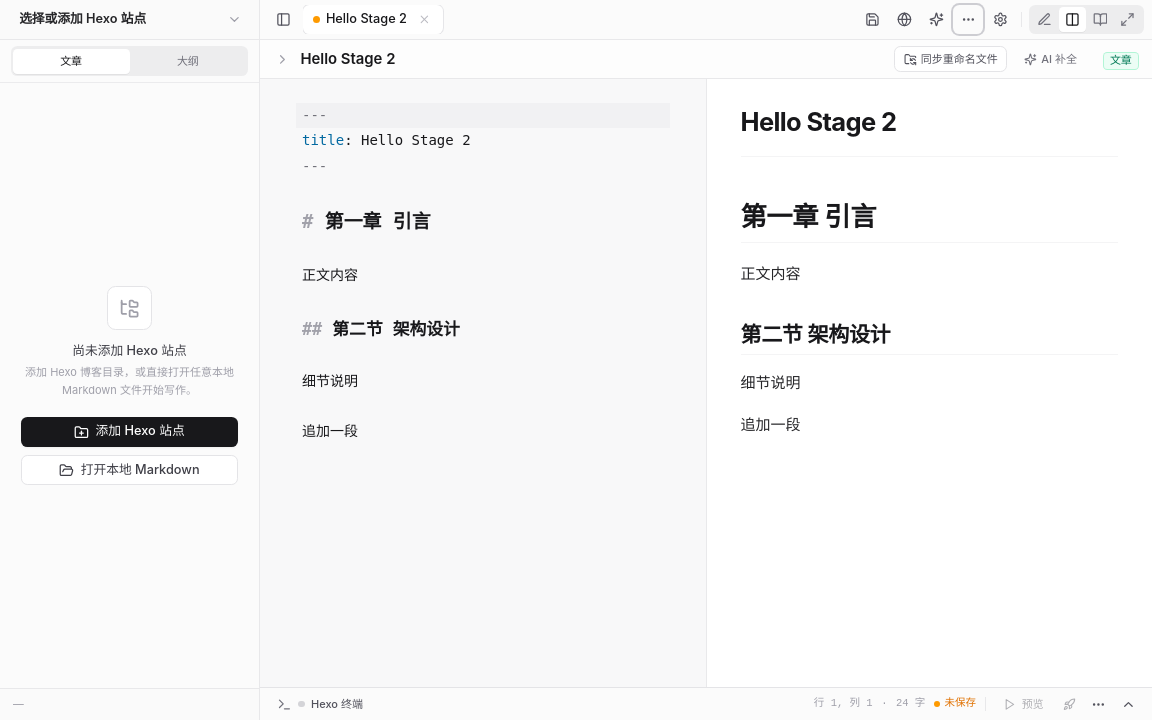
Stage 2 workbench integration › hides formatting toolbar and line numbers by default, and toggles both cleanly without destroying editor undo history
This screenshot has width=1152, height=720.
Press Enter in the button named "更多工具", box top-left (953, 5), bottom-right (983, 34)
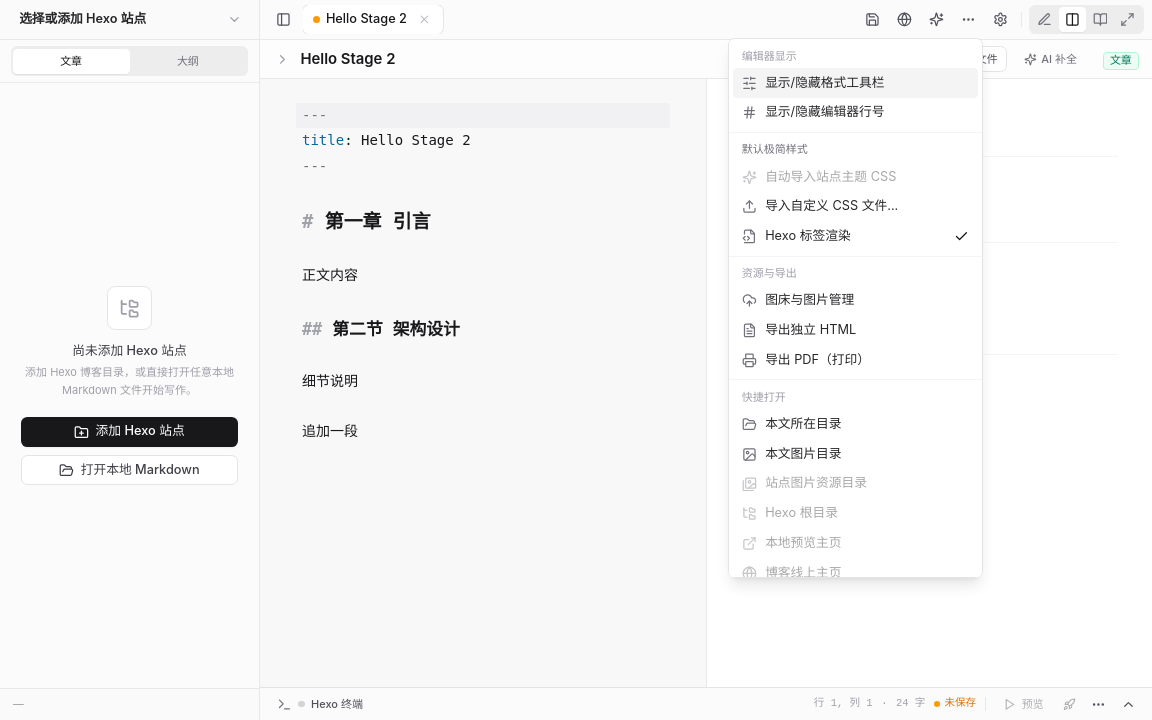
Expected: the menu item "显示/隐藏格式工具栏" is shown
Click the menu item "显示/隐藏格式工具栏". click: (856, 83)
box: top-left (733, 68), bottom-right (978, 98)
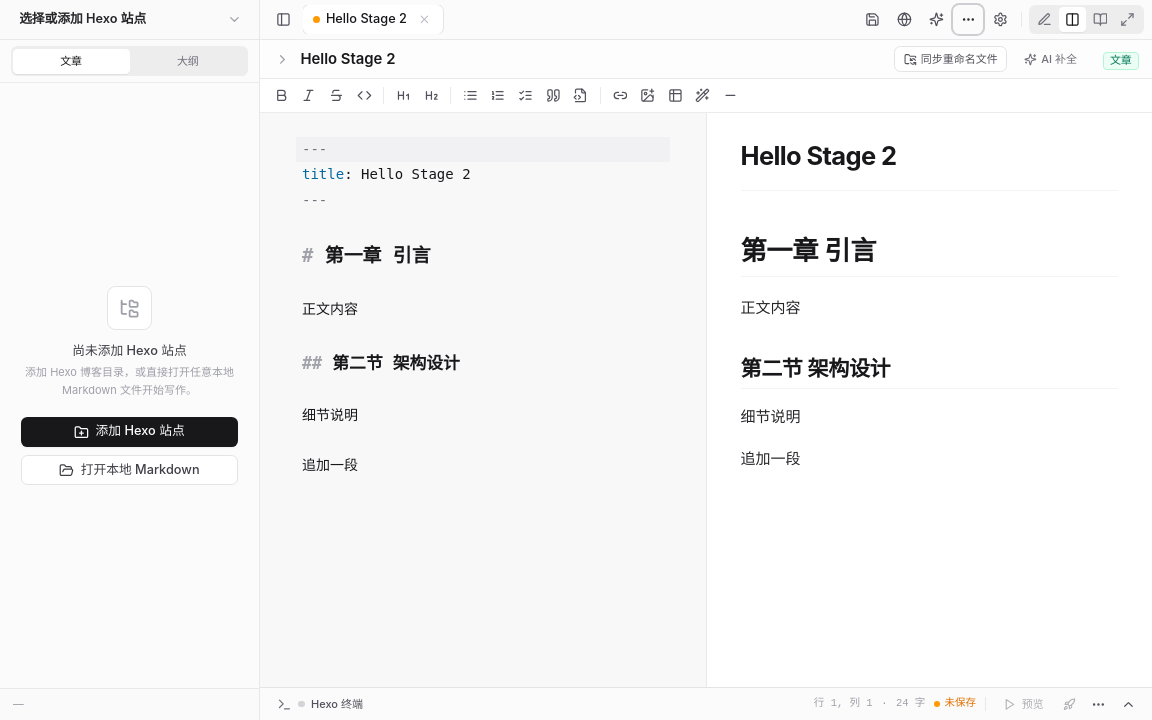
Press Enter in the button named "更多工具", box top-left (953, 5), bottom-right (983, 34)
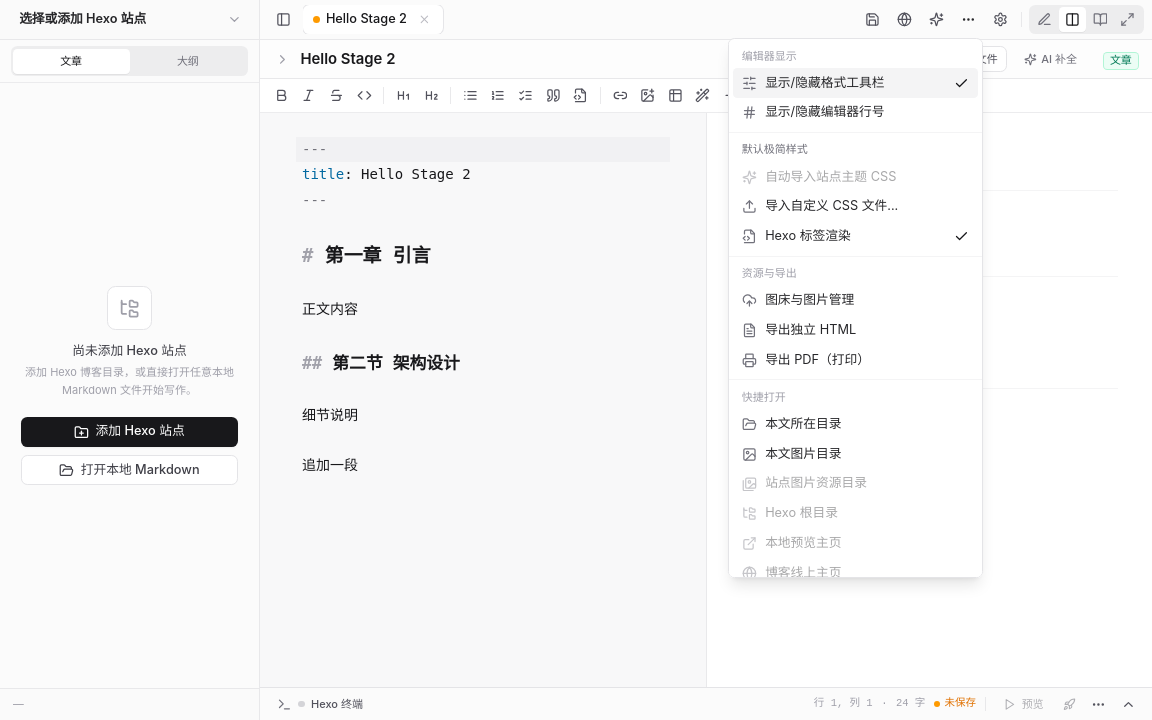
Expected: the menu item "显示/隐藏编辑器行号" is shown
Click the menu item "显示/隐藏编辑器行号". click: (813, 112)
box: top-left (742, 104), bottom-right (884, 120)
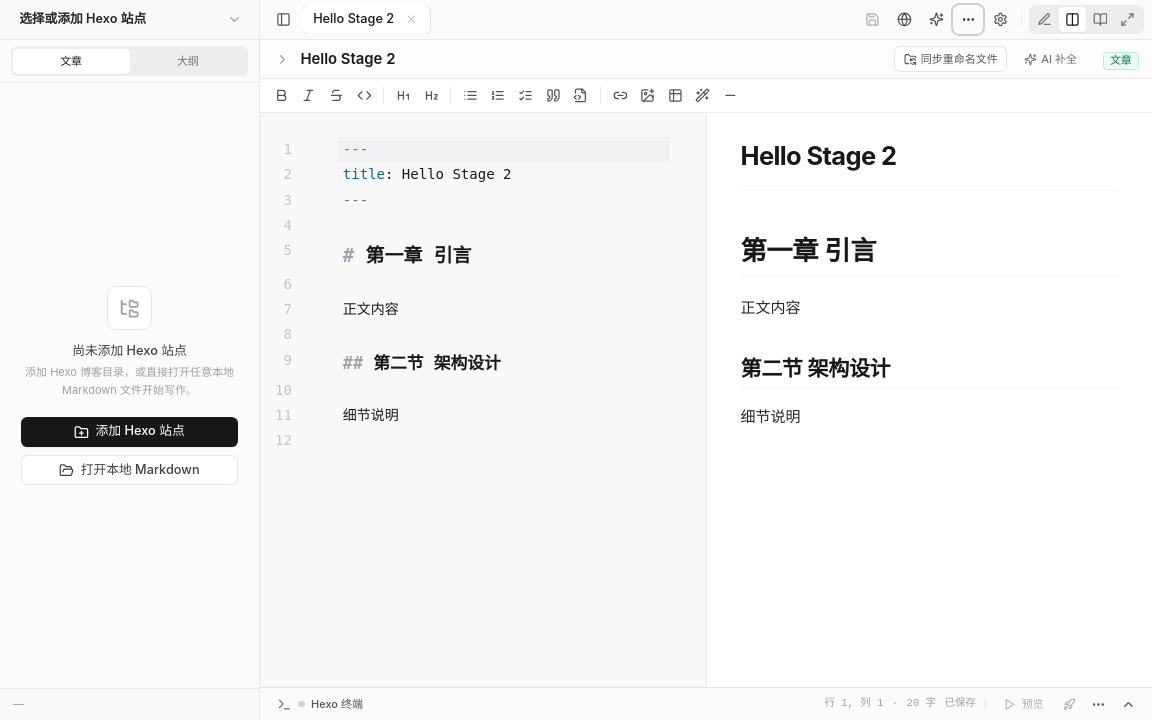
Expected: the button named "加粗 (⌘B)" is shown, top-left (268, 83), bottom-right (294, 108)
Expected: the button named "链接 (⌘⇧L)" is shown, top-left (607, 83), bottom-right (633, 108)
Expected: the element with class "cm-lineNumbers" is shown, top-left (275, 141), bottom-right (292, 448)
